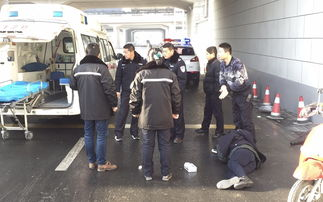fall: (209, 121, 269, 191)
